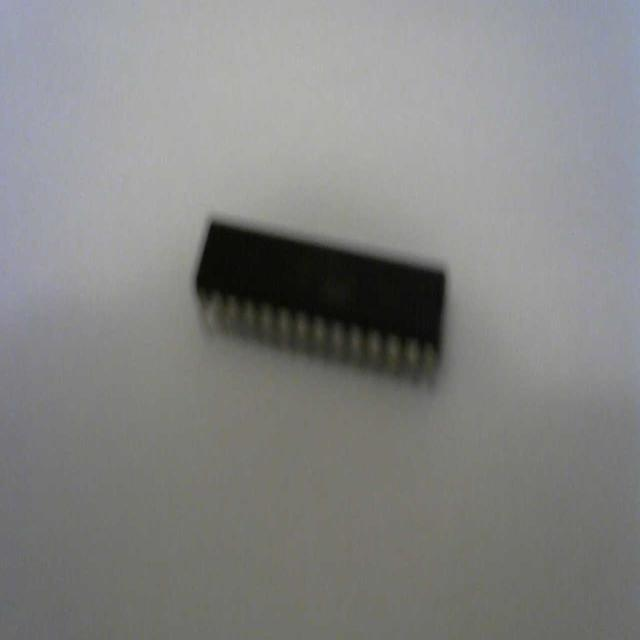atmega: (192, 212, 449, 390)
